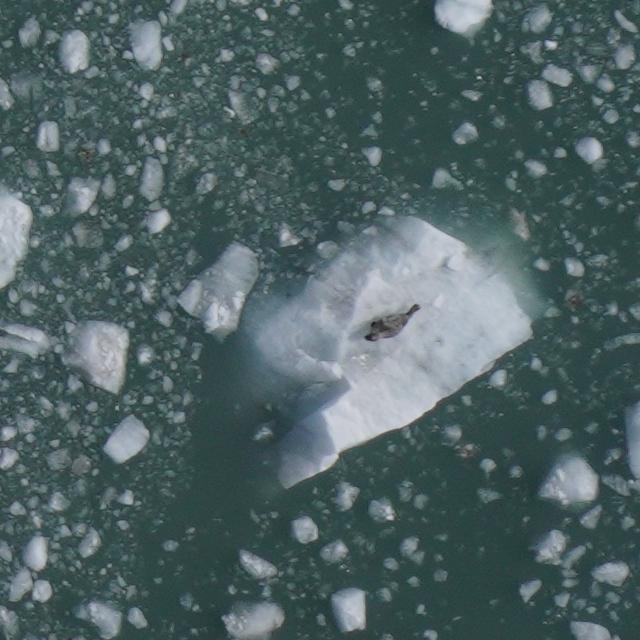seal: (361, 301, 426, 346)
